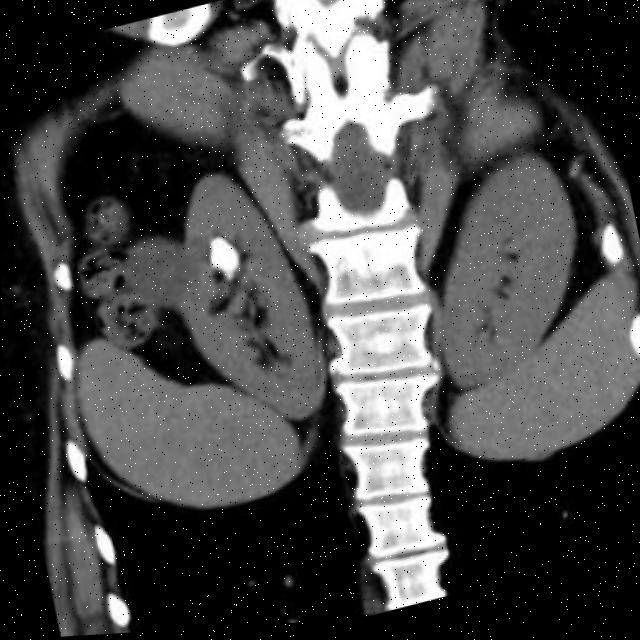Tas_Var: (198, 231, 247, 286), (222, 274, 234, 288)
